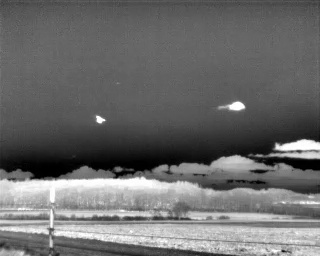DRONE: (91, 110, 110, 129)
